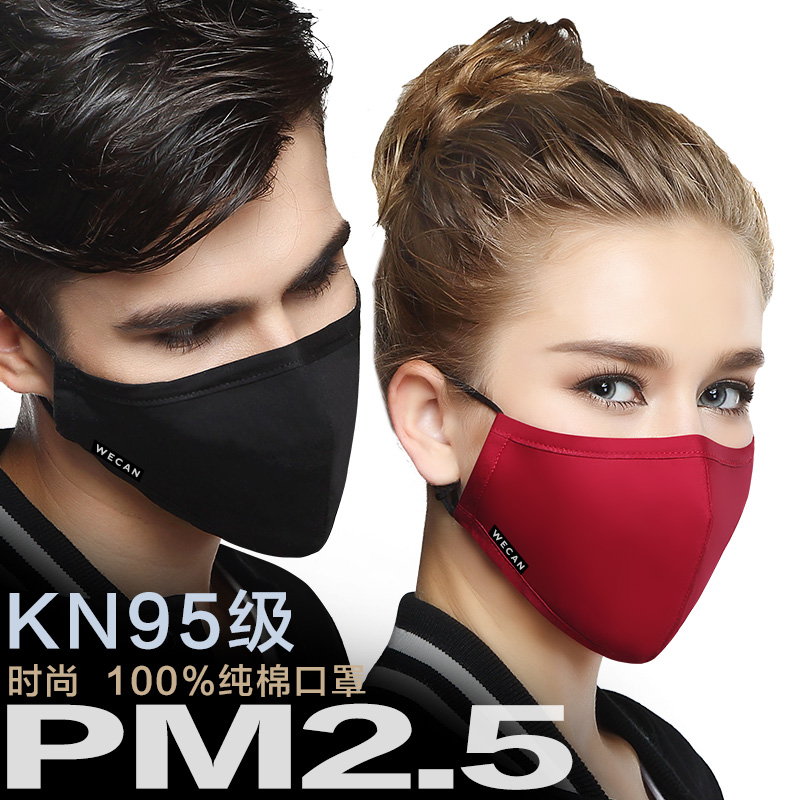face_mask: (54, 143, 362, 554), (468, 224, 759, 645)
